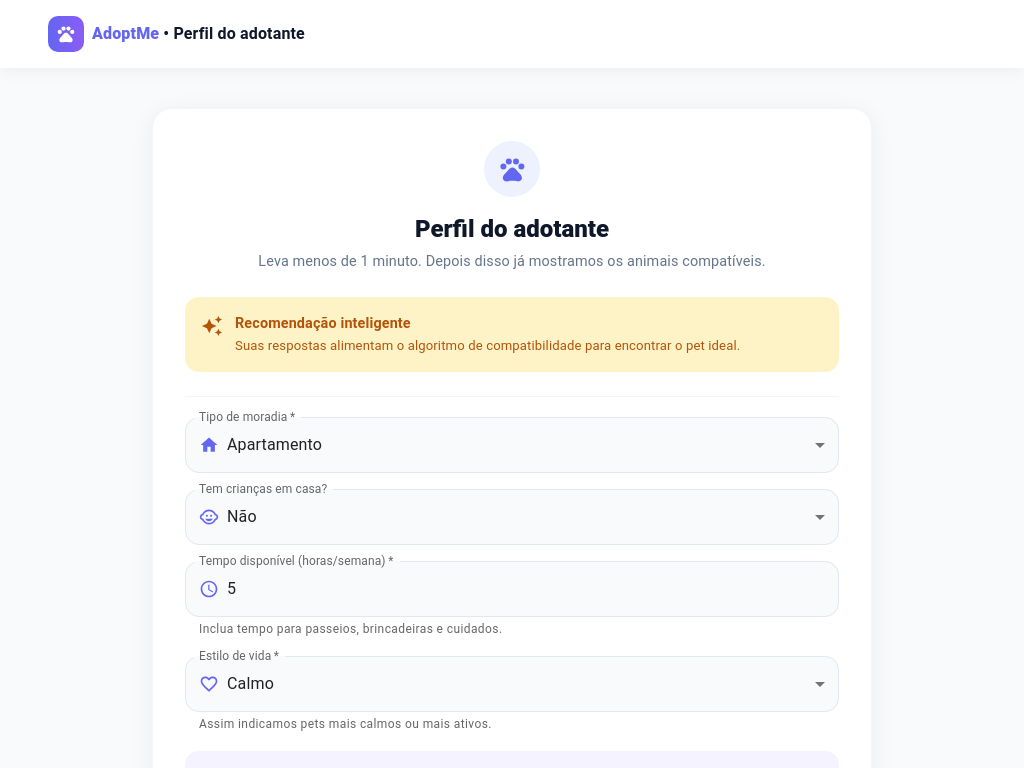
Scenario: AdopterForm (page) › exibe mensagem genérica quando save falha sem mensagem
Click the dropdown named "Tipo de moradia": [275, 445] box x1=227 y1=435 x2=322 y2=454
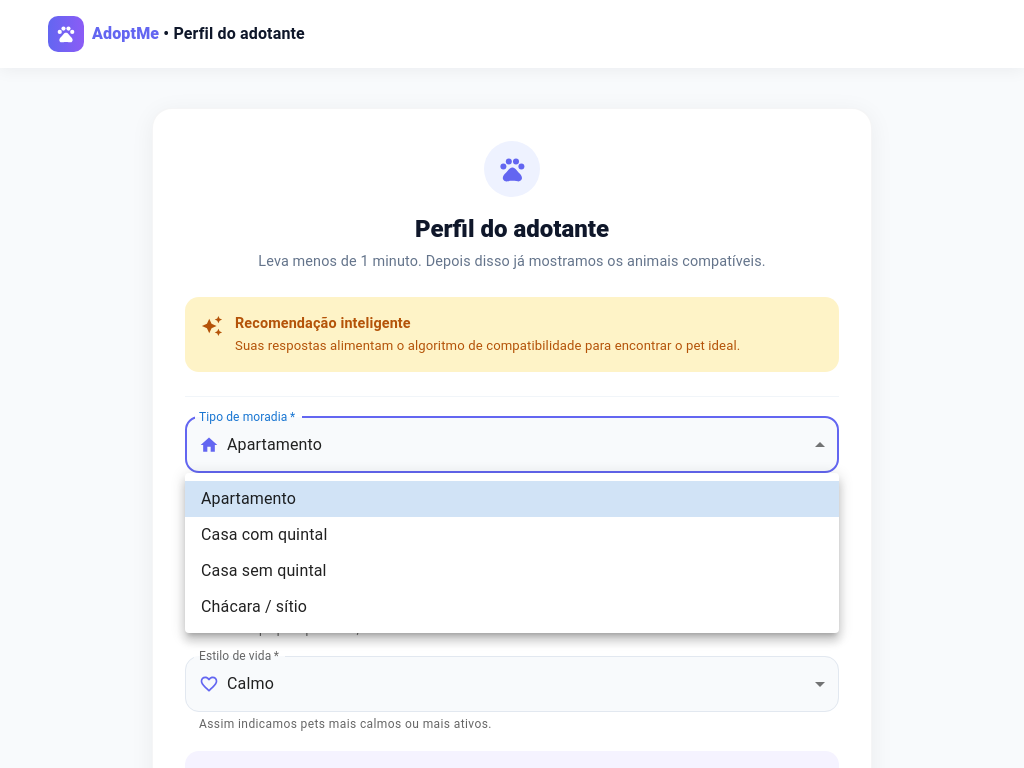
Click the option "Apartamento": [249, 498] box x1=185 y1=481 x2=839 y2=517
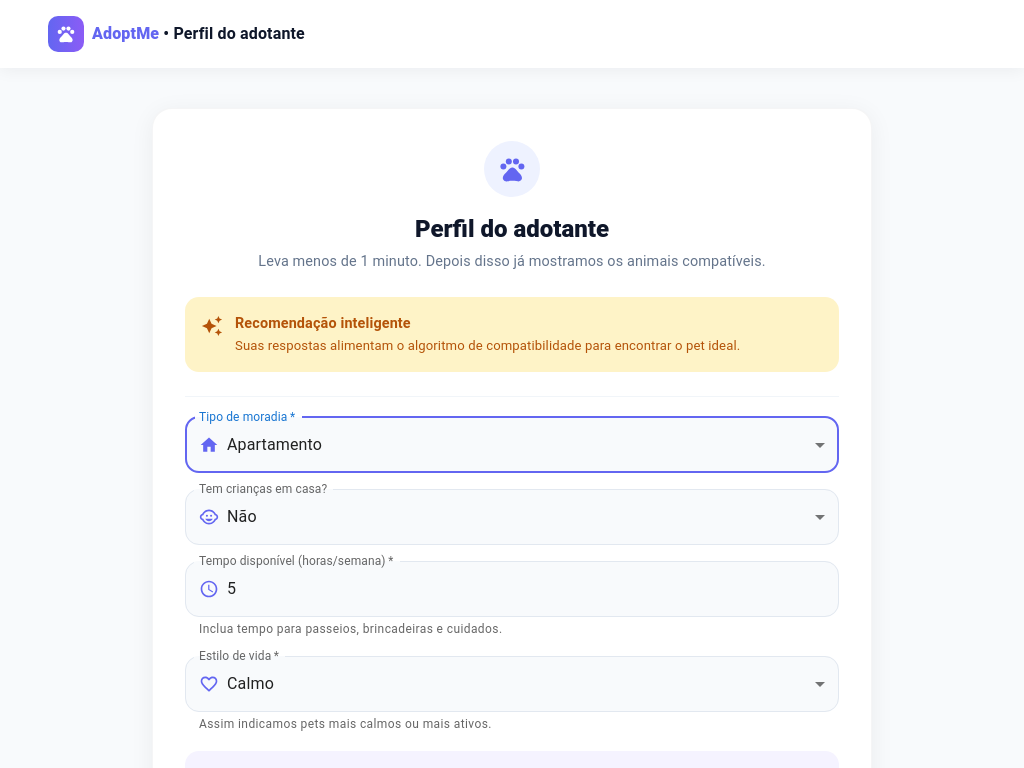
Click the dropdown named "Estilo de vida": [250, 684] box x1=227 y1=674 x2=274 y2=693
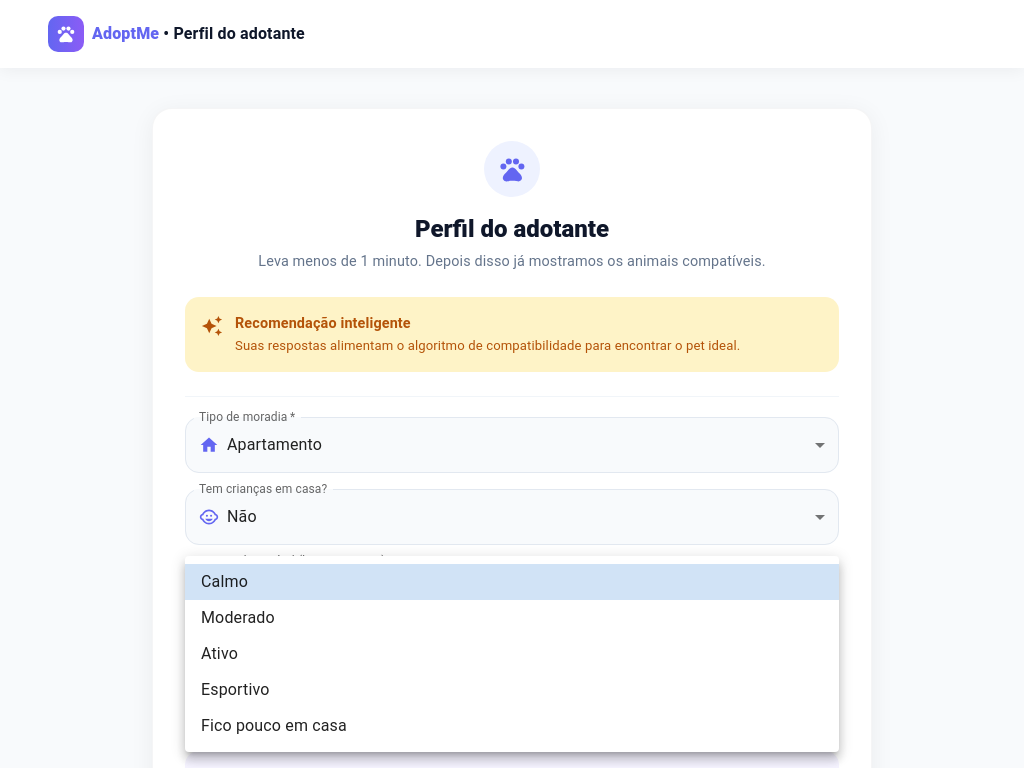
Click the option "Moderado": [238, 618] box x1=201 y1=608 x2=275 y2=627
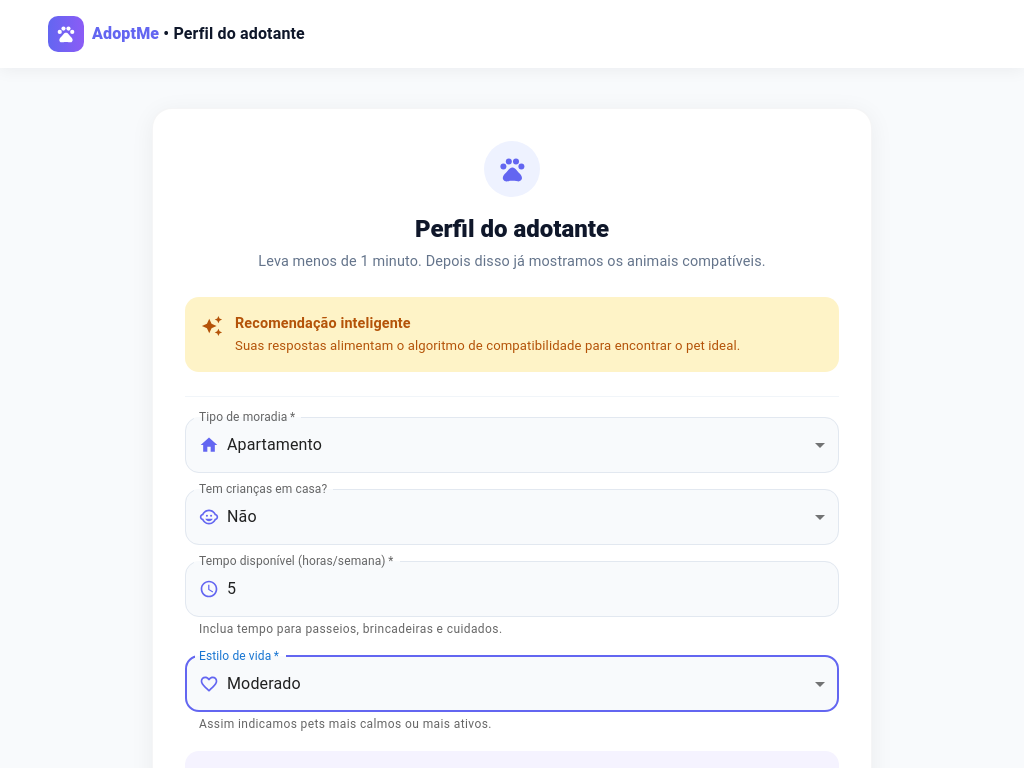
Replace the text in the number field labelled "Tempo disponível (horas/semana) *" with "8": [533, 589] box x1=227 y1=561 x2=839 y2=617
(page scrolled)
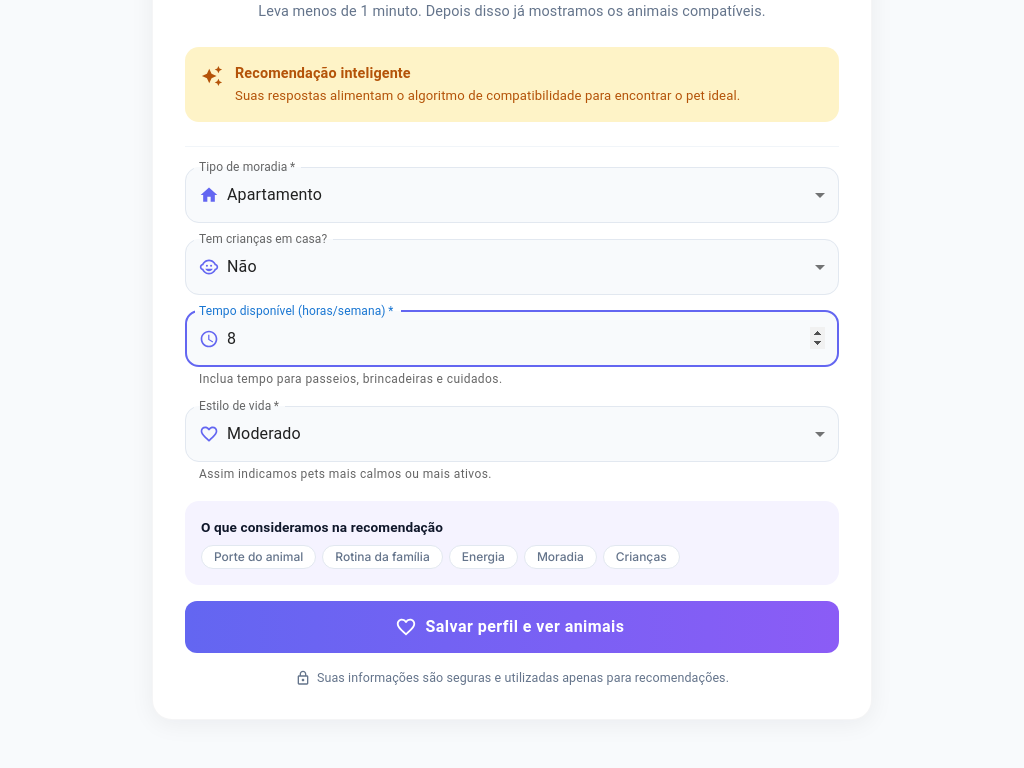
Click the button "Salvar perfil e ver animais": [512, 626] box x1=185 y1=600 x2=839 y2=652
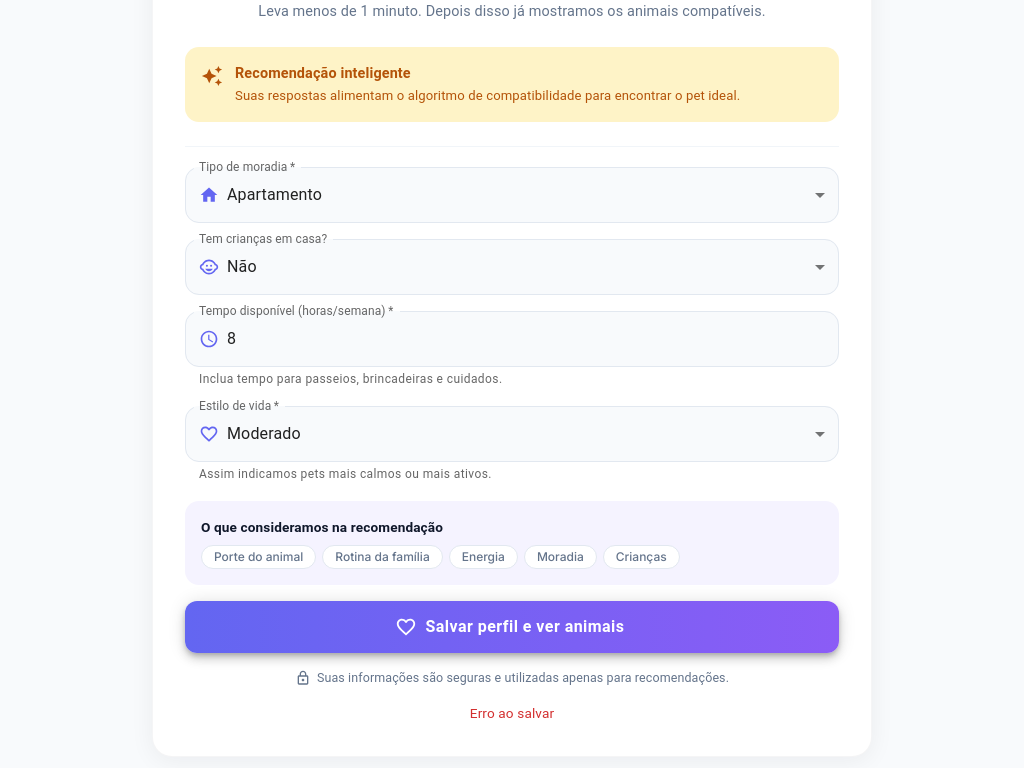
Expected: the text "Erro ao salvar" is shown, x1=470 y1=705 x2=554 y2=721
